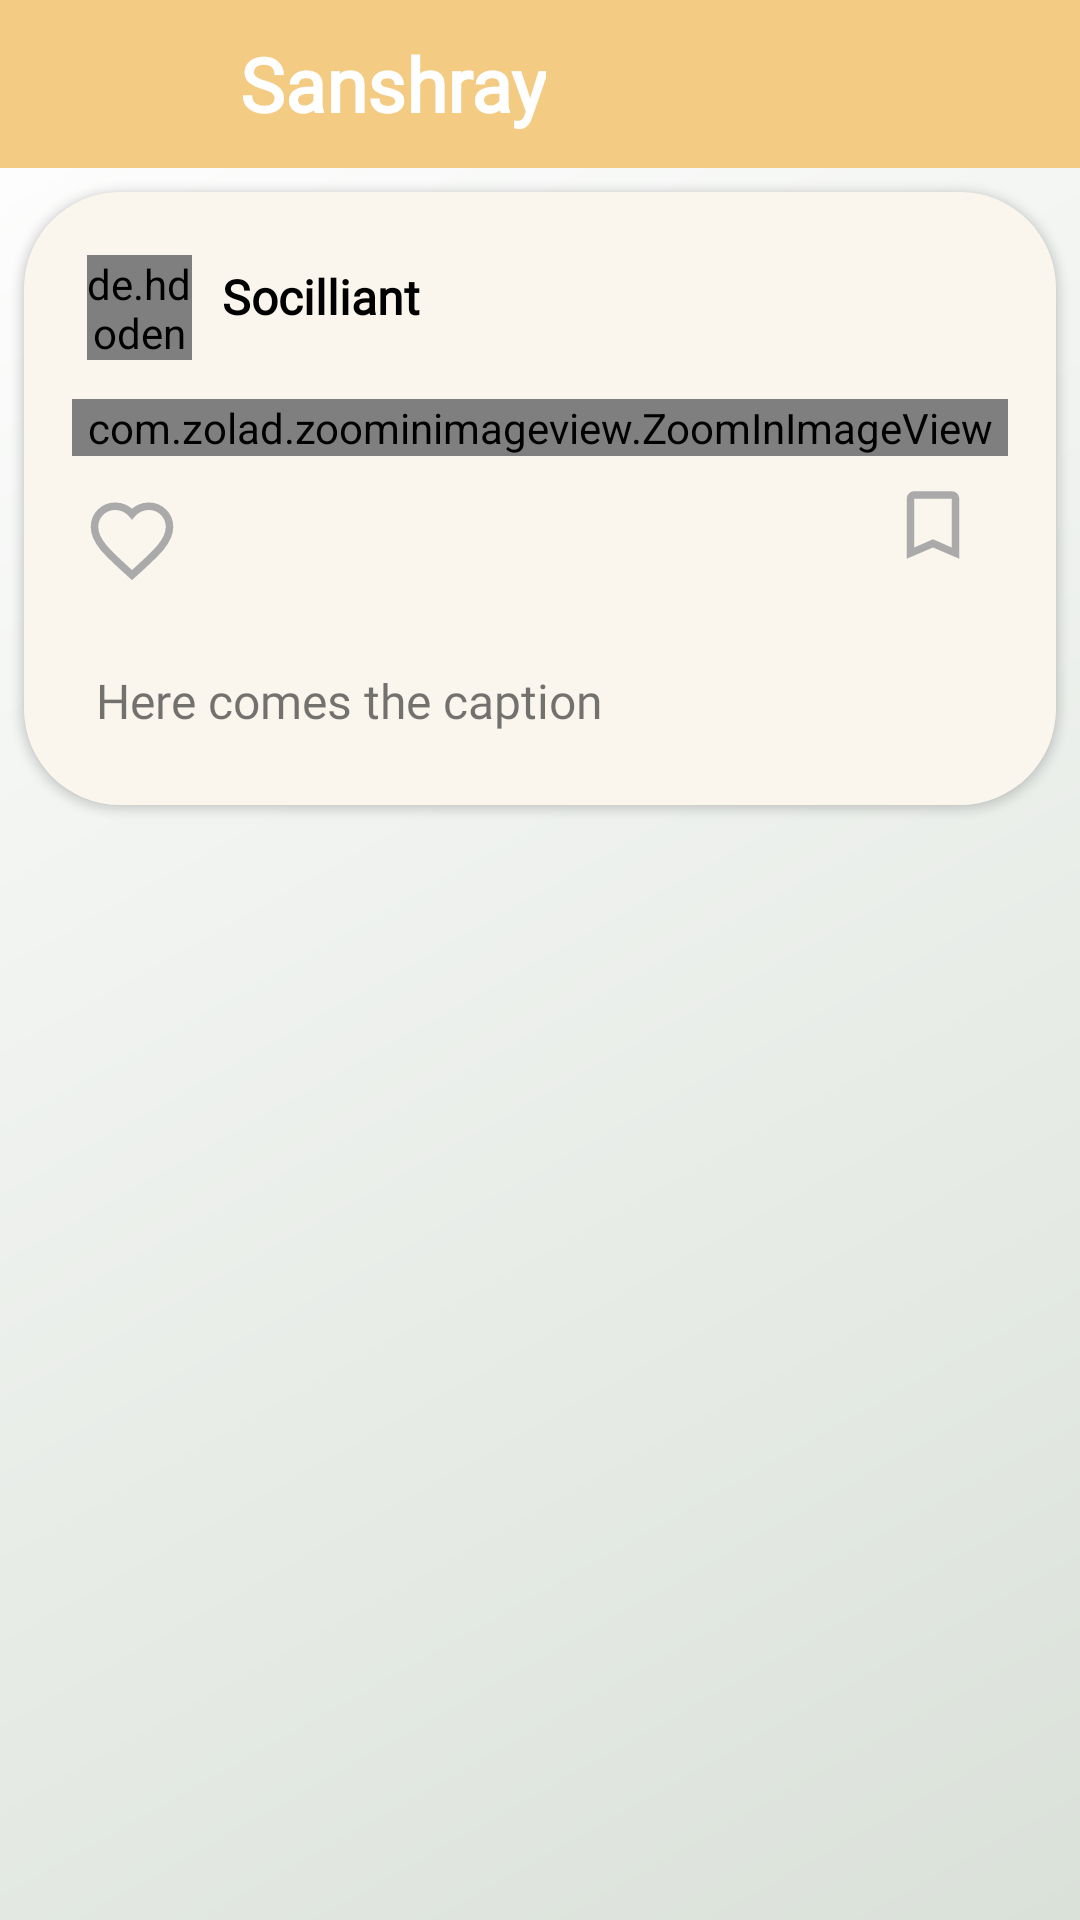

Where icons sit on this 1080x1920 app screen, as (x1=x1, y1=y1, x2=x2, y2=y2):
bookmark border: (x1=907, y1=491, x2=959, y2=559)
like border: (x1=91, y1=502, x2=173, y2=580)
